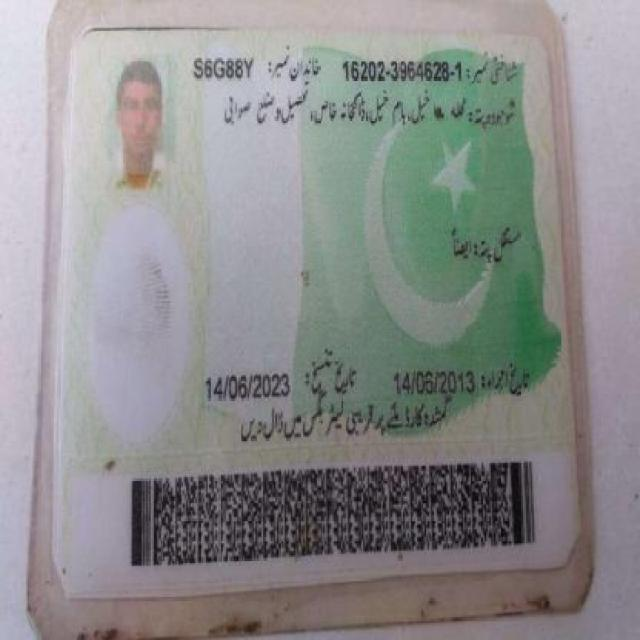Back: (40, 19, 586, 588)
